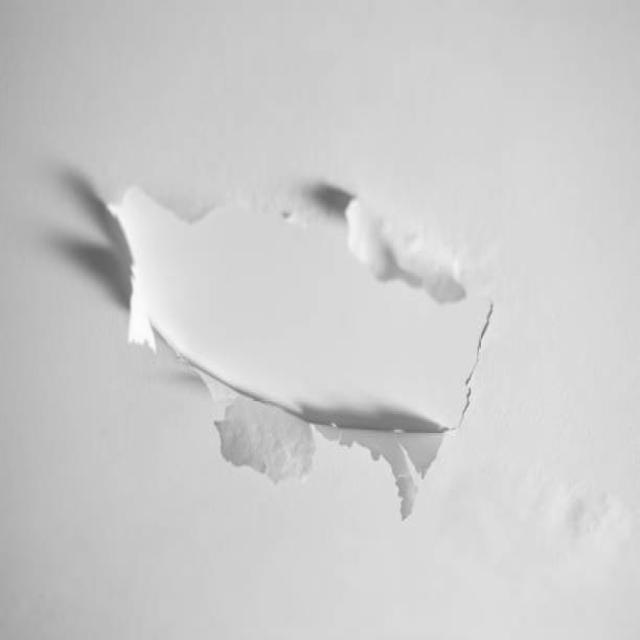peeling paint: (85, 135, 512, 532)
